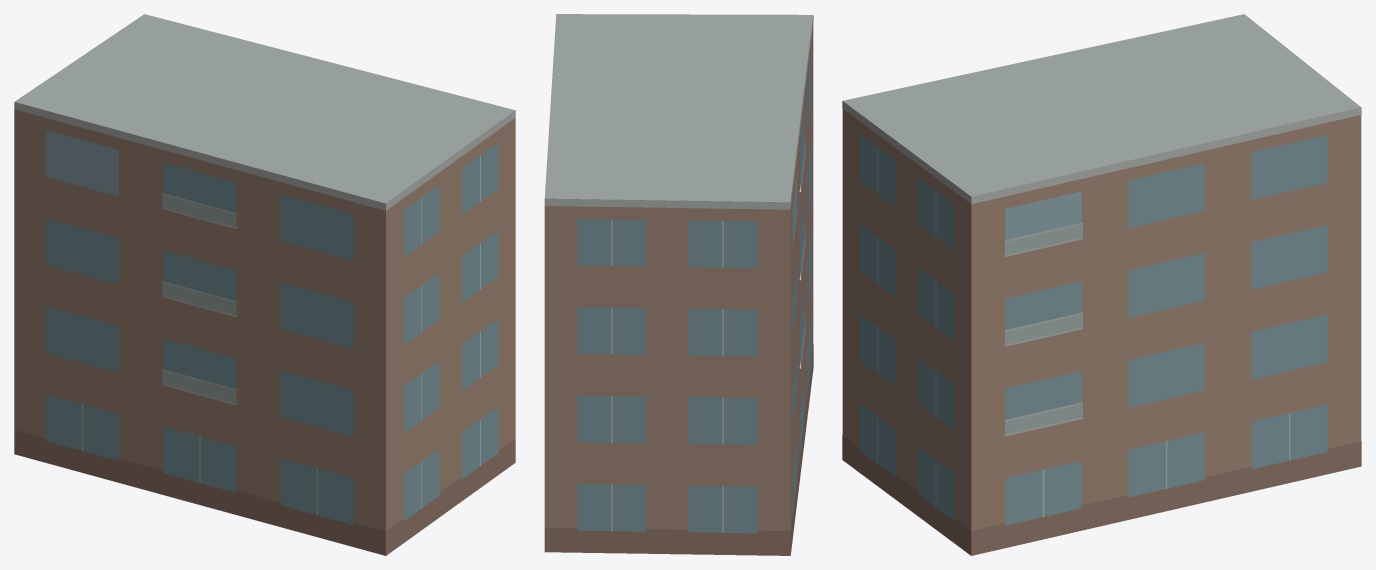
File: survey-upis-32788212.glb
3 renders of one model, left to right at view 1: azimuth 30°, elevation 25°; view 2: azimuth 150°, elevation 25°; view 3: azimuth 270°, elevation 25°, orthographic.
Parts seen in each view (by area): view 1: survey-upis-32788212.tmp; view 2: survey-upis-32788212.tmp; view 3: survey-upis-32788212.tmp.
Boxes of the visible parts, x1,y1,x2,y2 form: survey-upis-32788212.tmp: (14, 14, 515, 555); survey-upis-32788212.tmp: (544, 14, 813, 555); survey-upis-32788212.tmp: (842, 14, 1361, 555).
Size of the model in its own units: 12.78 by 11.7 by 15.33.
